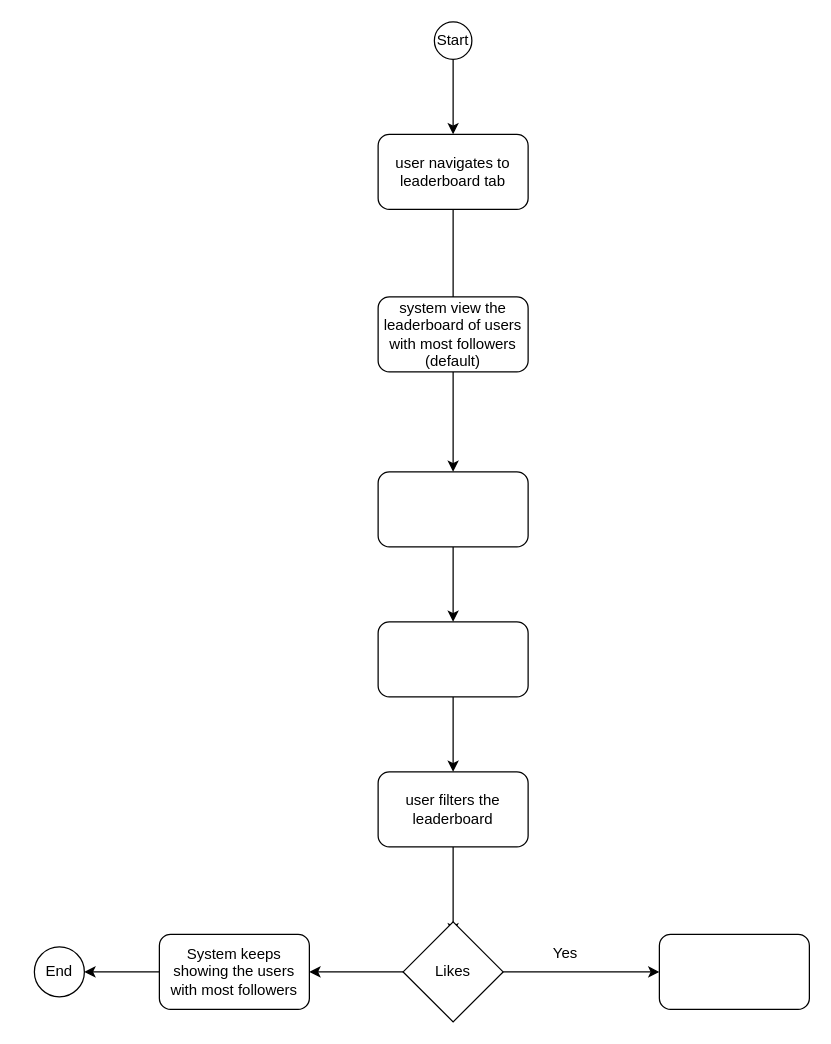
The diagram is 831 pixels wide and 1044 high, and some of its shapes have lost their labels. Here are the shapes that lost their labels. From the top down, the box of each, then its label:
(377, 471, 528, 547): user clicks on "my current ranking" action
(377, 621, 528, 697): system shows where uses is currently ranked
(658, 933, 809, 1009): System shows the rankings of the users with the most gained likes
